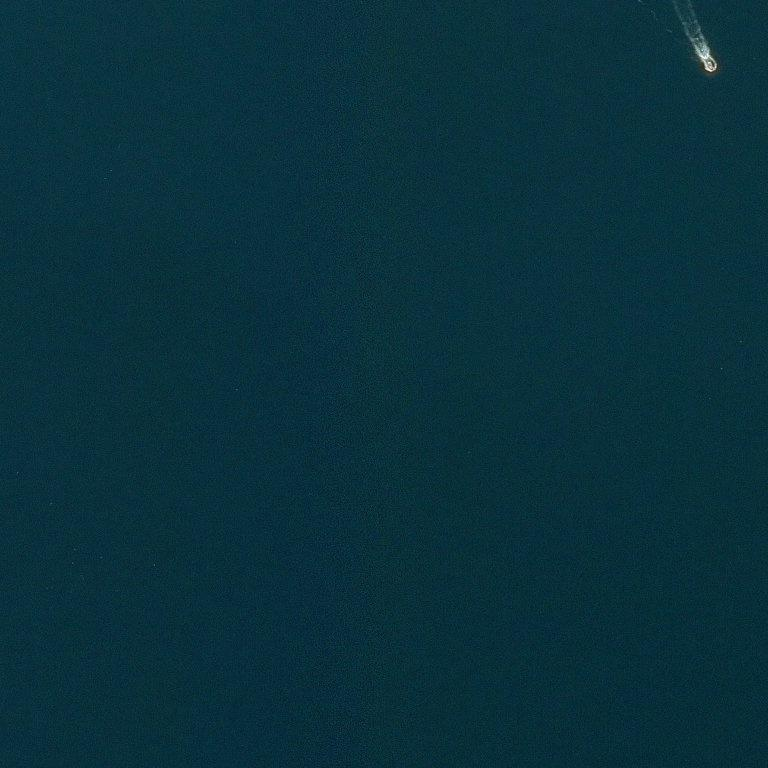ship: (699, 52, 719, 75), (709, 67, 715, 73), (709, 56, 713, 61), (702, 59, 706, 63)
